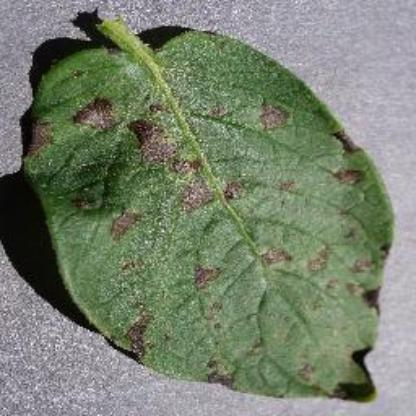Early-Blight: (20, 11, 396, 401)
